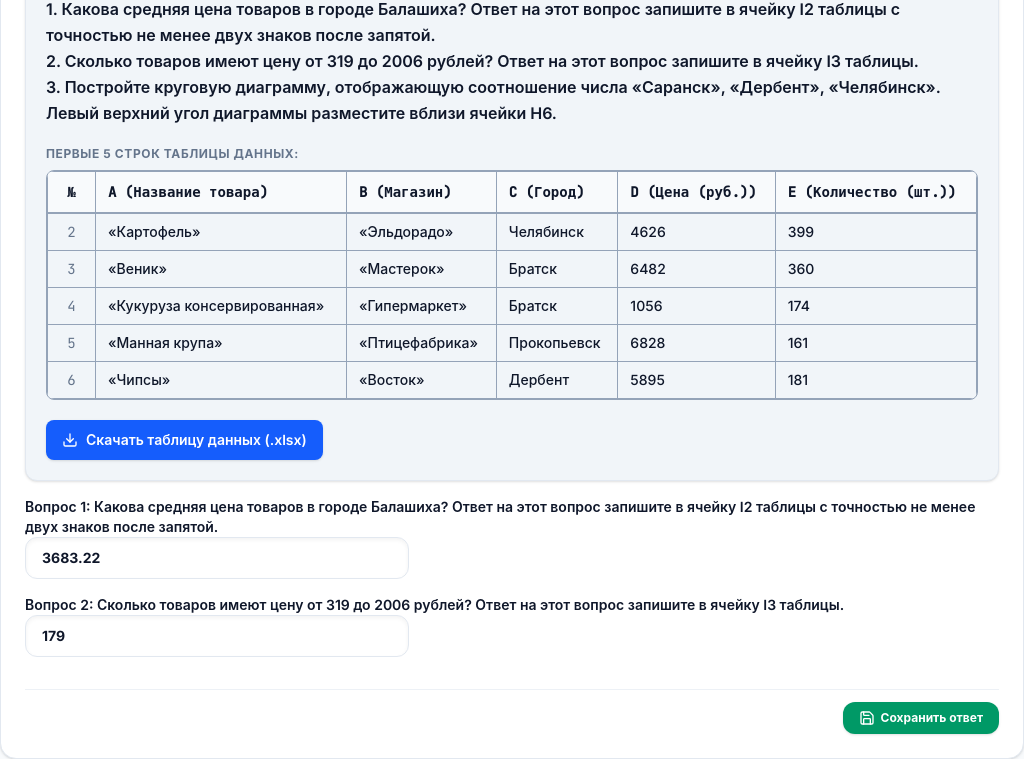
it: TaskAnswerPanel component › задание 14 в mode="save": чекбокса нет ни до, ни после сохранения
(page scrolled)
Note: Нажимаем «Сохранить ответ»
Step 1. Click the button "Сохранить ответ" → (921, 718), box x1=843 y1=702 x2=999 y2=734
(page scrolled)
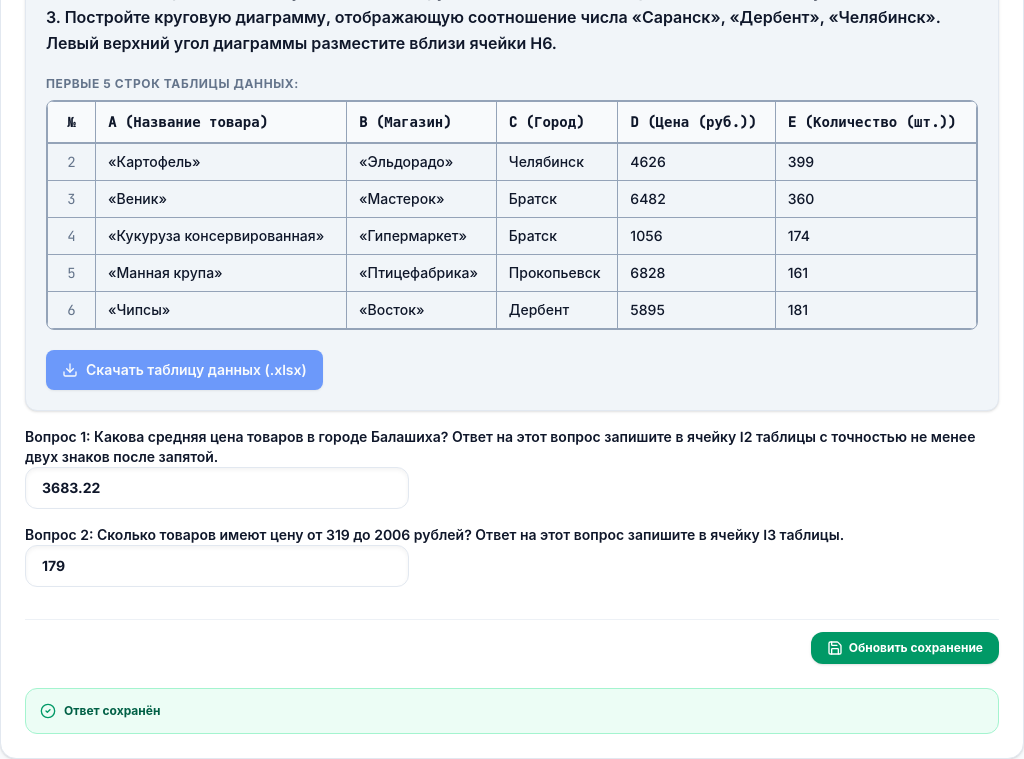
Result: the text "Ответ сохранён" is shown at x1=64 y1=703 x2=160 y2=719
